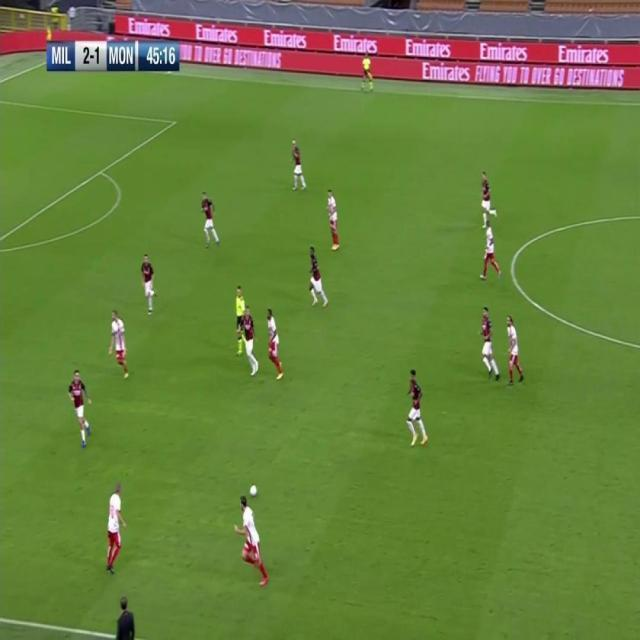ball: (249, 482, 258, 497)
player: (234, 497, 269, 590), (104, 481, 127, 576), (404, 366, 430, 448), (69, 367, 94, 448), (107, 307, 132, 381), (479, 307, 501, 385), (306, 245, 330, 311), (265, 308, 286, 382), (504, 313, 525, 386), (479, 222, 502, 283), (241, 306, 260, 377), (200, 190, 221, 249), (141, 253, 158, 317), (479, 169, 499, 223), (326, 188, 342, 253), (290, 139, 307, 194)
referee: (234, 283, 247, 348), (360, 51, 374, 96)
